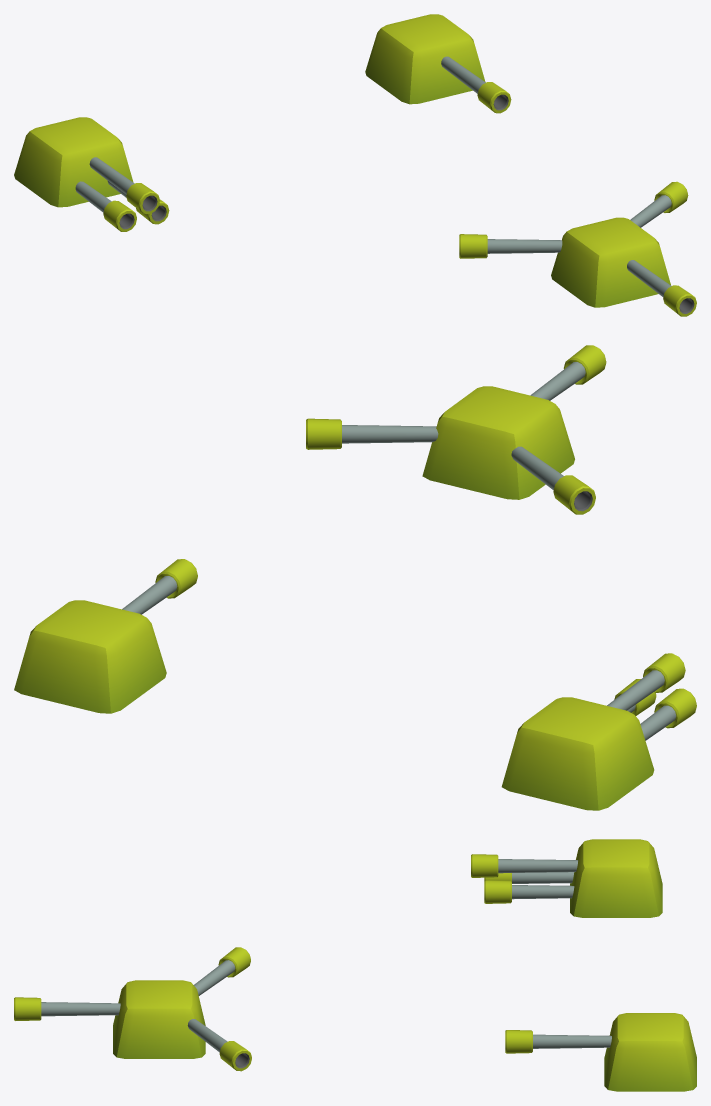
File: SMALL.fbx
3 renders of one model, top to bottom at view 1: azimuth 30°, elevation 25°; view 2: azimuth 150°, elevation 25°; view 3: azimuth 270°, elevation 25°, orthographic. The views are drawn at different scales.
Visible parts, largest first — view 1: Barrel.020, Barrel.025, Barrel.019, Barrel.030, Barrel.022, Barrel.021, Barrel.026, Barrel.031, Barrel.034, Barrel.024, Barrel.023, Barrel.027 (+3 smaller); view 2: Barrel.019, Barrel.020, Barrel.025, Barrel.028, Barrel.030, Barrel.029, Barrel.022, Barrel.031, Barrel.021, Barrel.026, Barrel.035, Barrel.024 (+2 smaller); view 3: Barrel.020, Barrel.019, Barrel.025, Barrel.026, Barrel.022, Barrel.021, Barrel.032, Barrel.034, Barrel.028, Barrel.033, Barrel.024, Barrel.023 (+4 smaller).
Boxes of the visible parts, box(x1,y1,x2,y2) form: Barrel.020: box(365, 14, 485, 104); Barrel.025: box(551, 217, 670, 307); Barrel.019: box(14, 117, 133, 207); Barrel.030: box(487, 239, 562, 253); Barrel.022: box(89, 157, 155, 209); Barrel.021: box(441, 56, 506, 108); Barrel.026: box(627, 260, 692, 312); Barrel.031: box(459, 234, 487, 258); Barrel.034: box(75, 181, 132, 227); Barrel.024: box(126, 183, 159, 214); Barrel.023: box(477, 82, 511, 113); Barrel.027: box(663, 285, 696, 316); Barrel.019: box(501, 697, 654, 810); Barrel.020: box(14, 600, 166, 713); Barrel.025: box(422, 386, 574, 499); Barrel.028: box(342, 425, 438, 443); Barrel.030: box(511, 446, 590, 509); Barrel.029: box(306, 418, 341, 449); Barrel.022: box(607, 670, 664, 710); Barrel.031: box(553, 475, 595, 514); Barrel.021: box(122, 576, 177, 614); Barrel.026: box(530, 362, 585, 400); Barrel.035: box(654, 688, 696, 728); Barrel.024: box(643, 653, 685, 692); Barrel.020: box(604, 1013, 696, 1091); Barrel.019: box(570, 839, 662, 917); Barrel.025: box(113, 980, 205, 1058); Barrel.026: box(41, 1002, 120, 1016); Barrel.022: box(498, 859, 577, 873); Barrel.021: box(533, 1034, 611, 1048); Barrel.032: box(512, 885, 574, 899); Barrel.034: box(512, 872, 574, 883); Barrel.028: box(187, 1019, 247, 1066); Barrel.033: box(484, 880, 511, 903); Barrel.024: box(471, 854, 498, 877); Barrel.023: box(505, 1030, 532, 1053).
Size of the model in its own units: 158 by 16.18 by 212.
